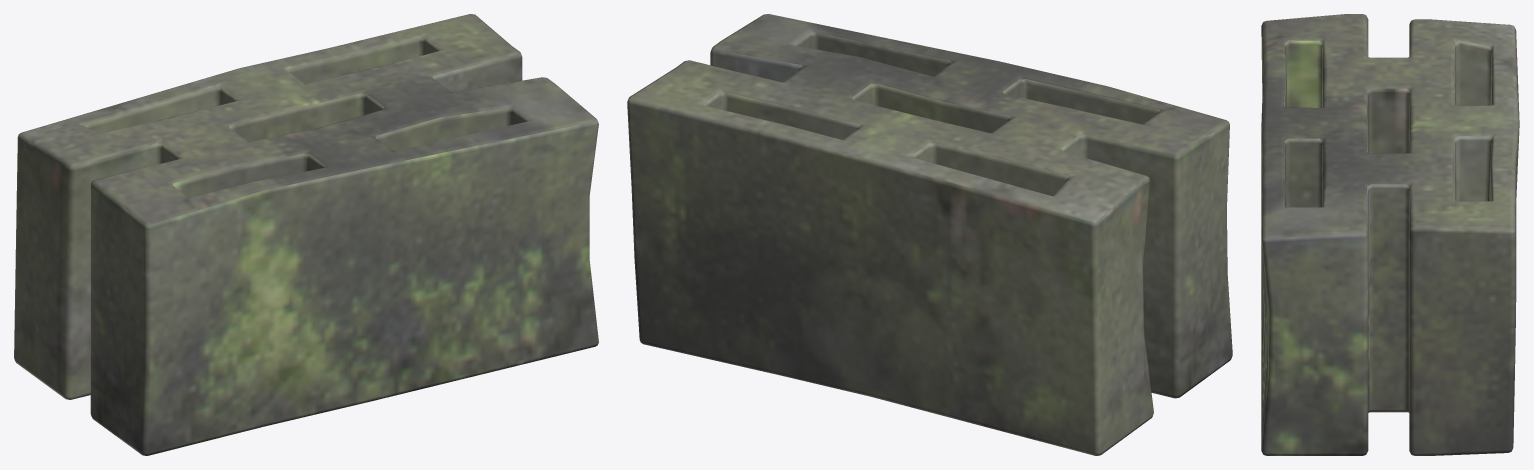
The model's file is sm_Wall_06_34_Brick.fbx.
3 renders of one model, left to right at view 1: azimuth 30°, elevation 25°; view 2: azimuth 150°, elevation 25°; view 3: azimuth 270°, elevation 25°, orthographic. The views are drawn at different scales.
Visible parts, largest first — view 1: sm_Wall_06_34_Brick_LOD0; view 2: sm_Wall_06_34_Brick_LOD0; view 3: sm_Wall_06_34_Brick_LOD0.
Boxes of the visible parts, bbox=[...] form: sm_Wall_06_34_Brick_LOD0: bbox=[14, 14, 598, 455]; sm_Wall_06_34_Brick_LOD0: bbox=[627, 14, 1232, 455]; sm_Wall_06_34_Brick_LOD0: bbox=[1261, 14, 1519, 455].
Bounding box in the file's own units: 25.34 × 50.5 × 25.
